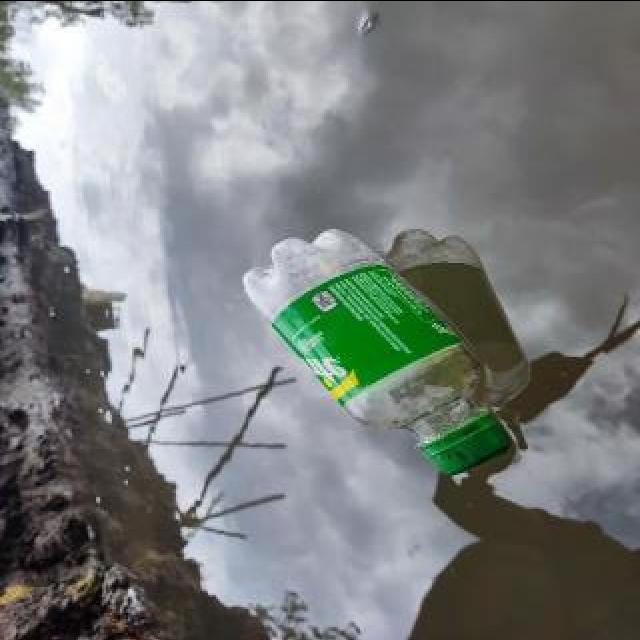Bottle: (216, 210, 554, 510)
